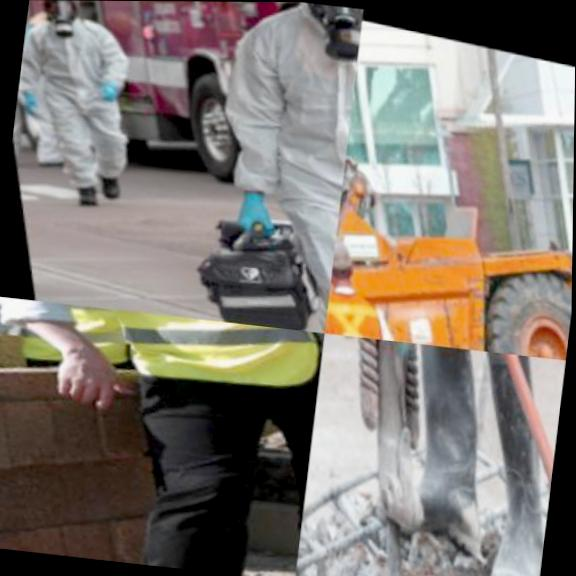safety_vest: (178, 1, 362, 236), (23, 300, 323, 430), (14, 0, 152, 127), (325, 271, 408, 340)
